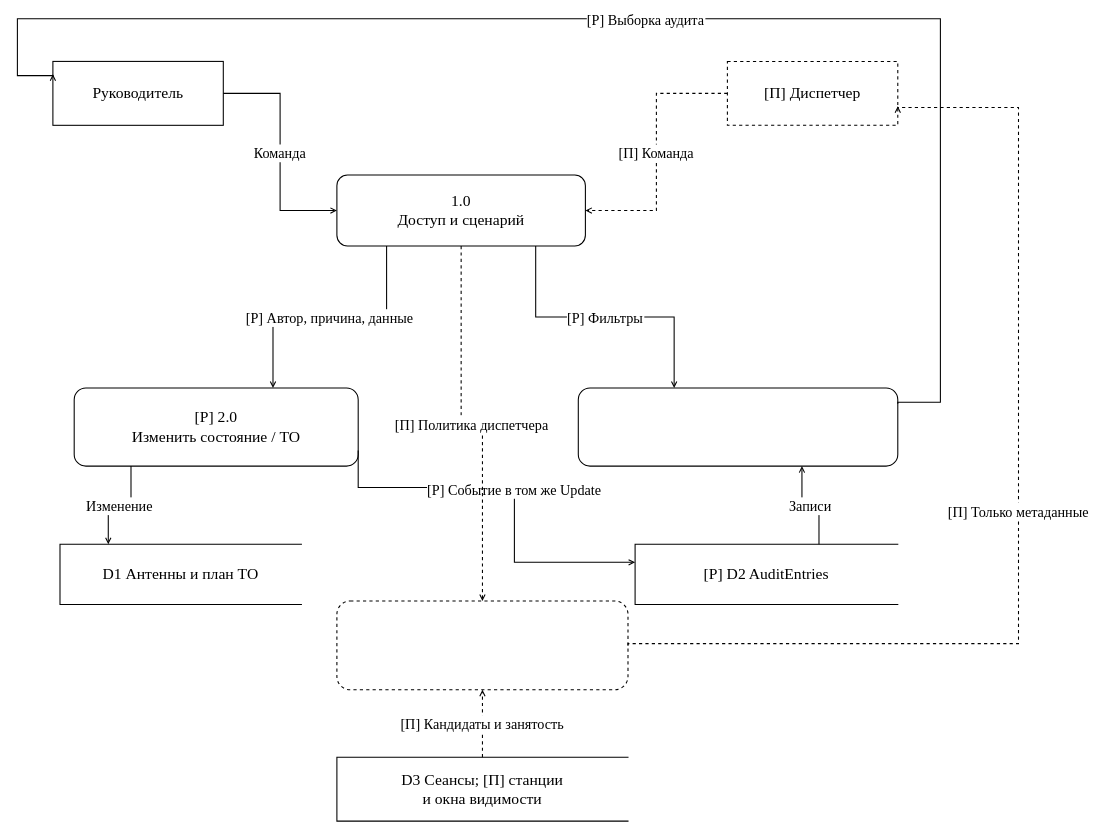
This 1102x834 diagram has some shape labels left out. The centre of each missing label's shape, as x and y in pixels:
"[П] 4.0 Выбрать станцию и спроецировать метаданные" goes at (482,645).
"[Р] 3.0 Отобрать записи аудита" goes at (737,426).
